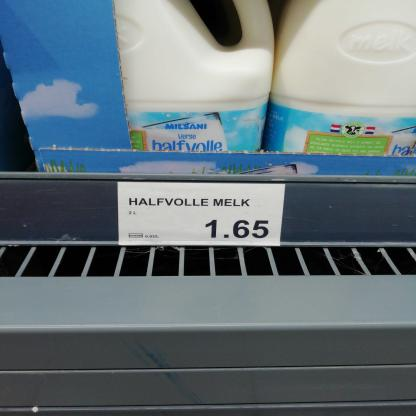prtg: (118, 182, 286, 247)
